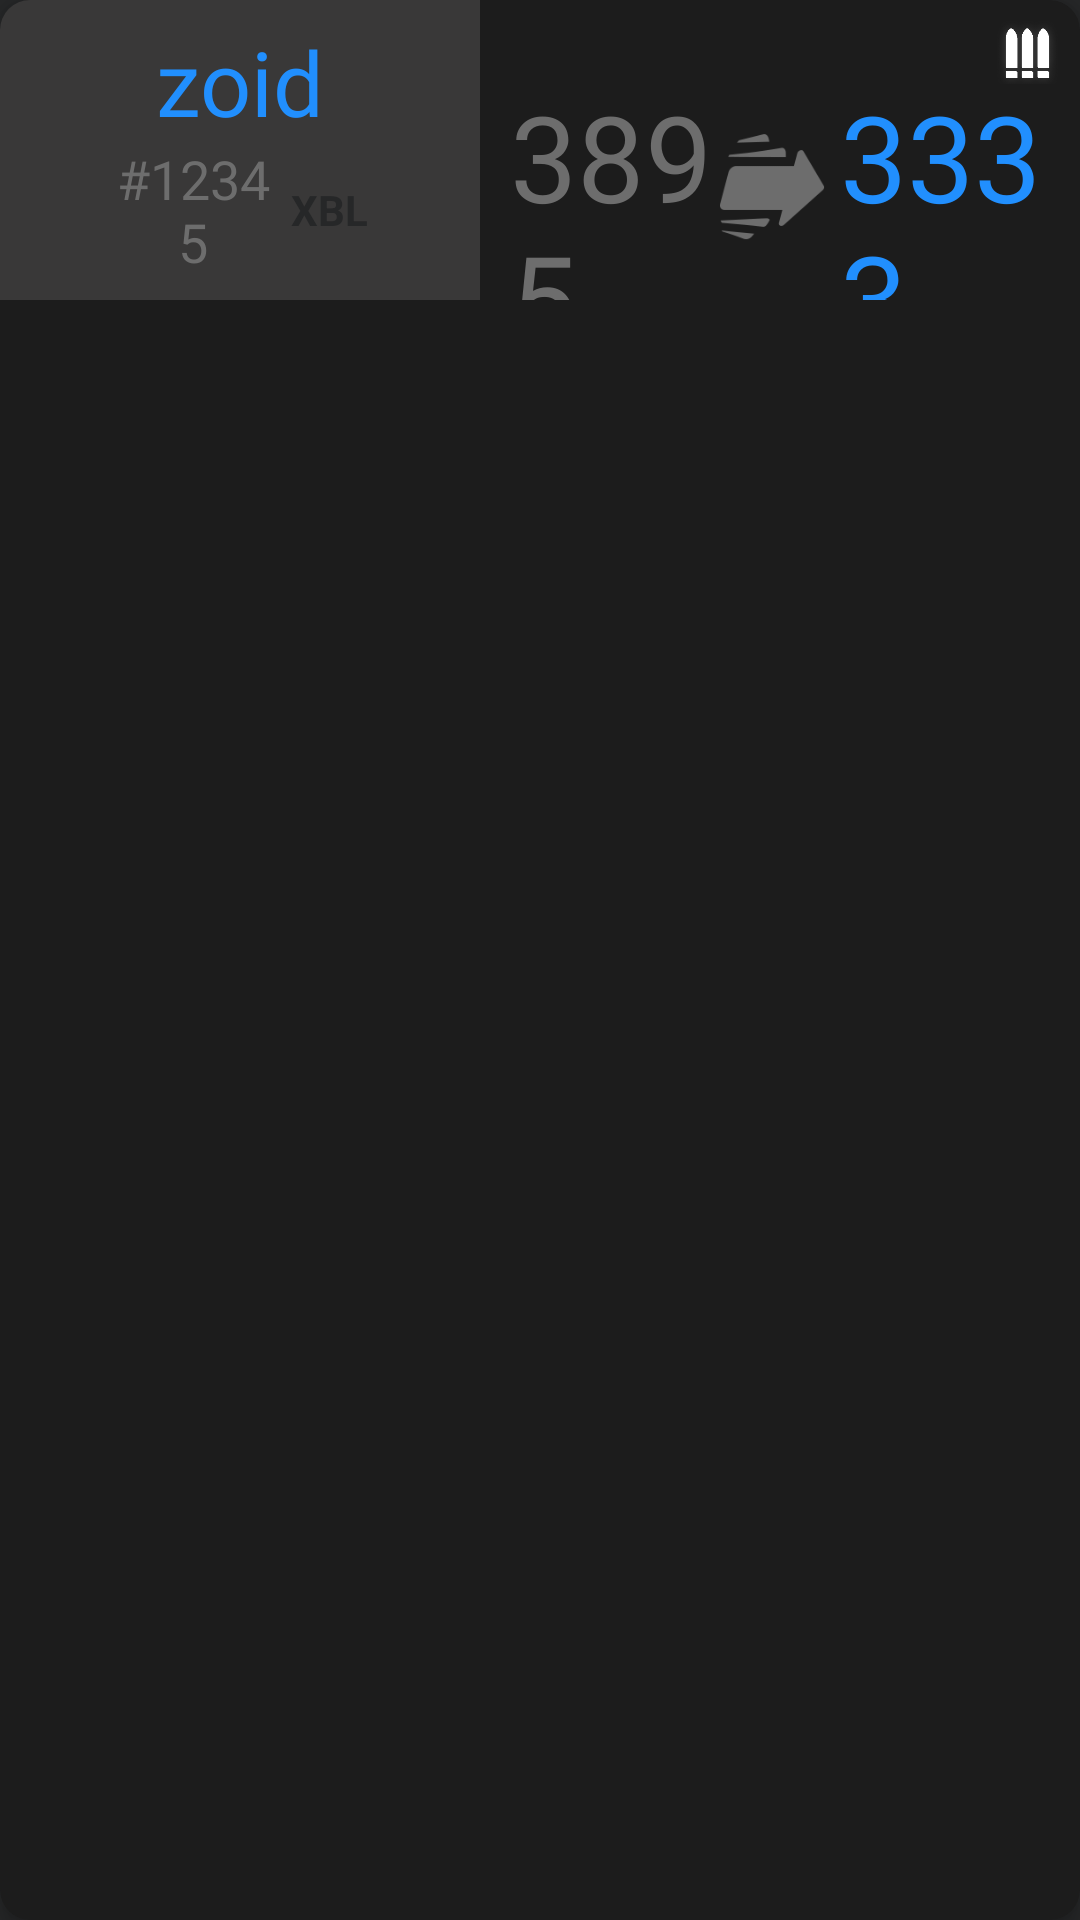

Screen size 1080w x 1920h. Icon name, then its box in pixels as [left=x1, top=y1, right=x2, bottom=y2]:
arrow: [left=720, top=134, right=824, bottom=239]
damage: [left=1005, top=28, right=1050, bottom=78]
